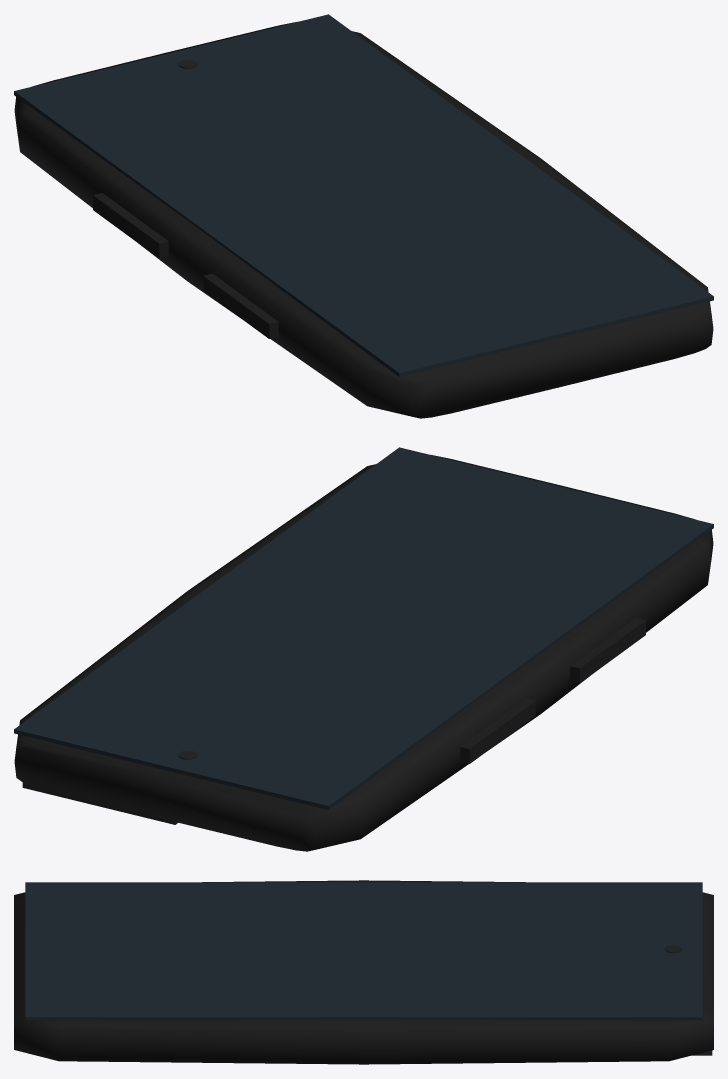
Rendered from phone.glb.
3 views of the same model, one above another, from view 1: azimuth 30°, elevation 25°; view 2: azimuth 150°, elevation 25°; view 3: azimuth 270°, elevation 25° (orthographic). The views are drawn at different scales.
Parts seen in each view (by area): view 1: phone; view 2: phone; view 3: phone.
Boxes of the visible parts, x1=… form: phone: x1=14, y1=14, x2=713, y2=418; phone: x1=14, y1=447, x2=713, y2=851; phone: x1=14, y1=880, x2=713, y2=1064.
Bounding box in the file's own units: 0.077 × 0.0104 × 0.1447.
1 material, 1 textured.
